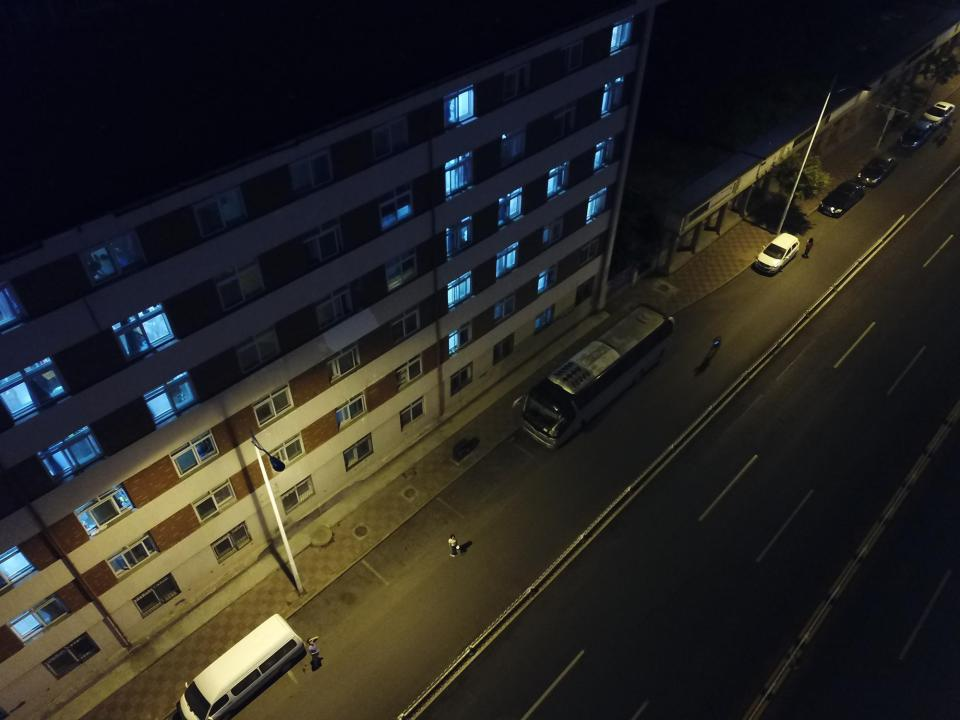bus: (512, 305, 675, 451)
car: (754, 232, 799, 274), (819, 180, 864, 220), (856, 153, 898, 187), (899, 118, 932, 152), (923, 100, 955, 130)
van: (179, 614, 305, 718)
